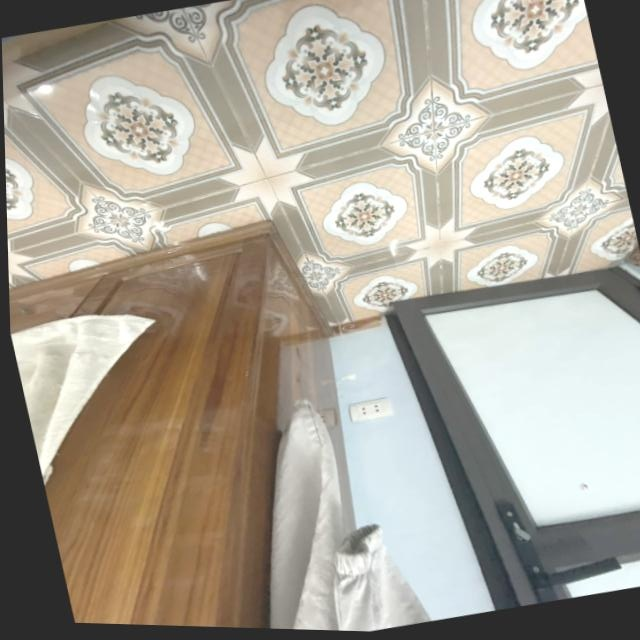outlet: (347, 394, 394, 424)
